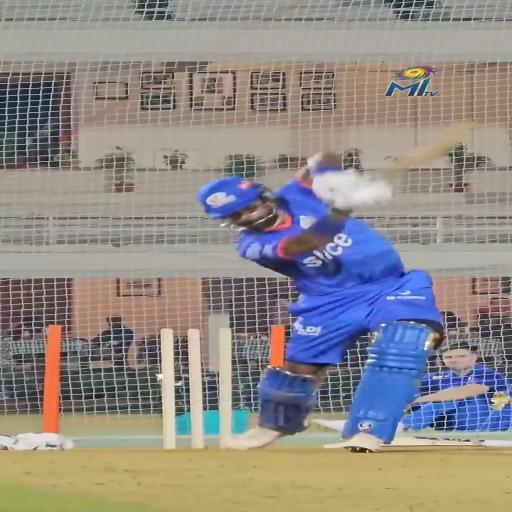Cricket bat: (388, 123, 471, 175)
